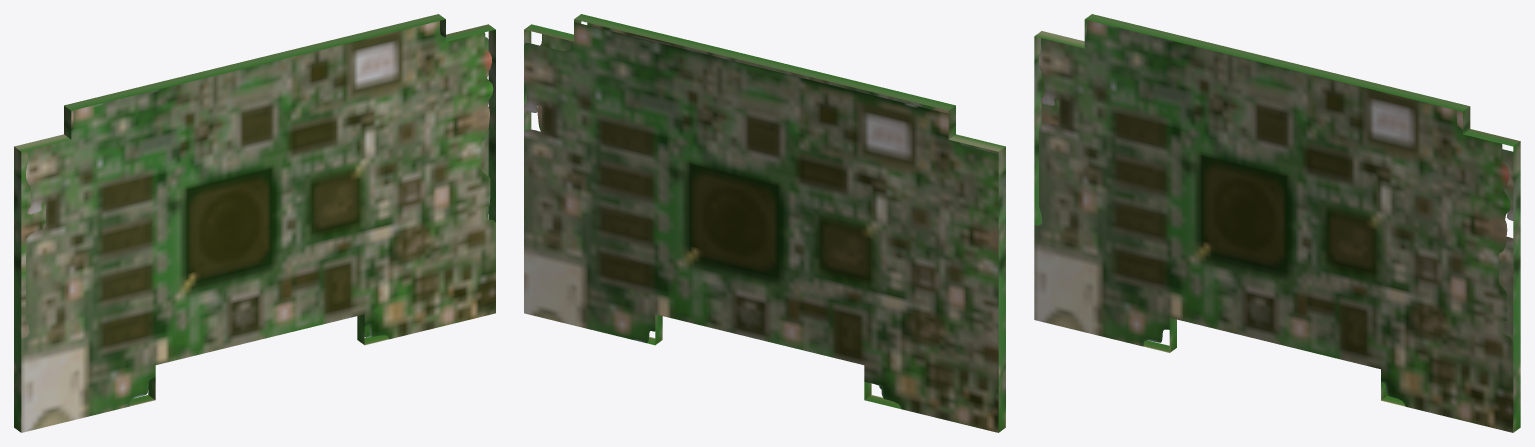
The model's file is motherboard.FBX.
3 renders of one model, left to right at view 1: azimuth 30°, elevation 25°; view 2: azimuth 150°, elevation 25°; view 3: azimuth 330°, elevation 25°, orthographic.
Parts seen in each view (by area): view 1: motherboard; view 2: motherboard; view 3: motherboard.
Part boxes in pixels (x1,y1,x2,y2): motherboard: (14, 14, 495, 432); motherboard: (524, 14, 1005, 432); motherboard: (1034, 14, 1520, 432).
Bounding box in the file's own units: 36.67 × 22.89 × 0.9791.
